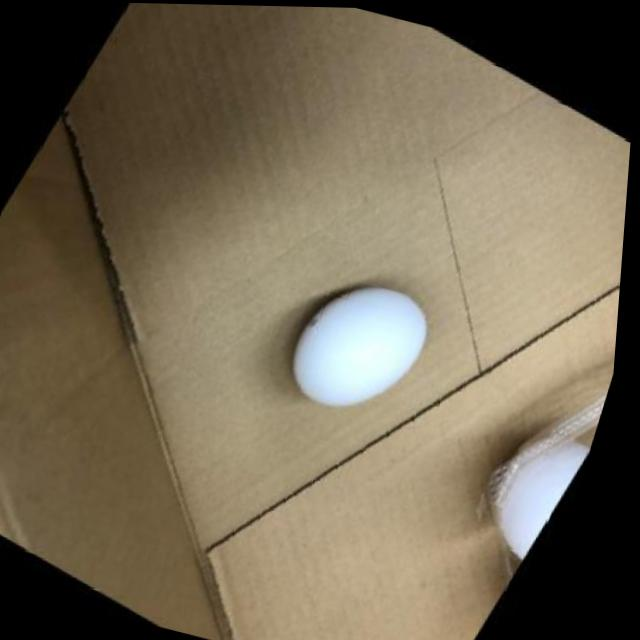egg: (279, 260, 449, 429)
